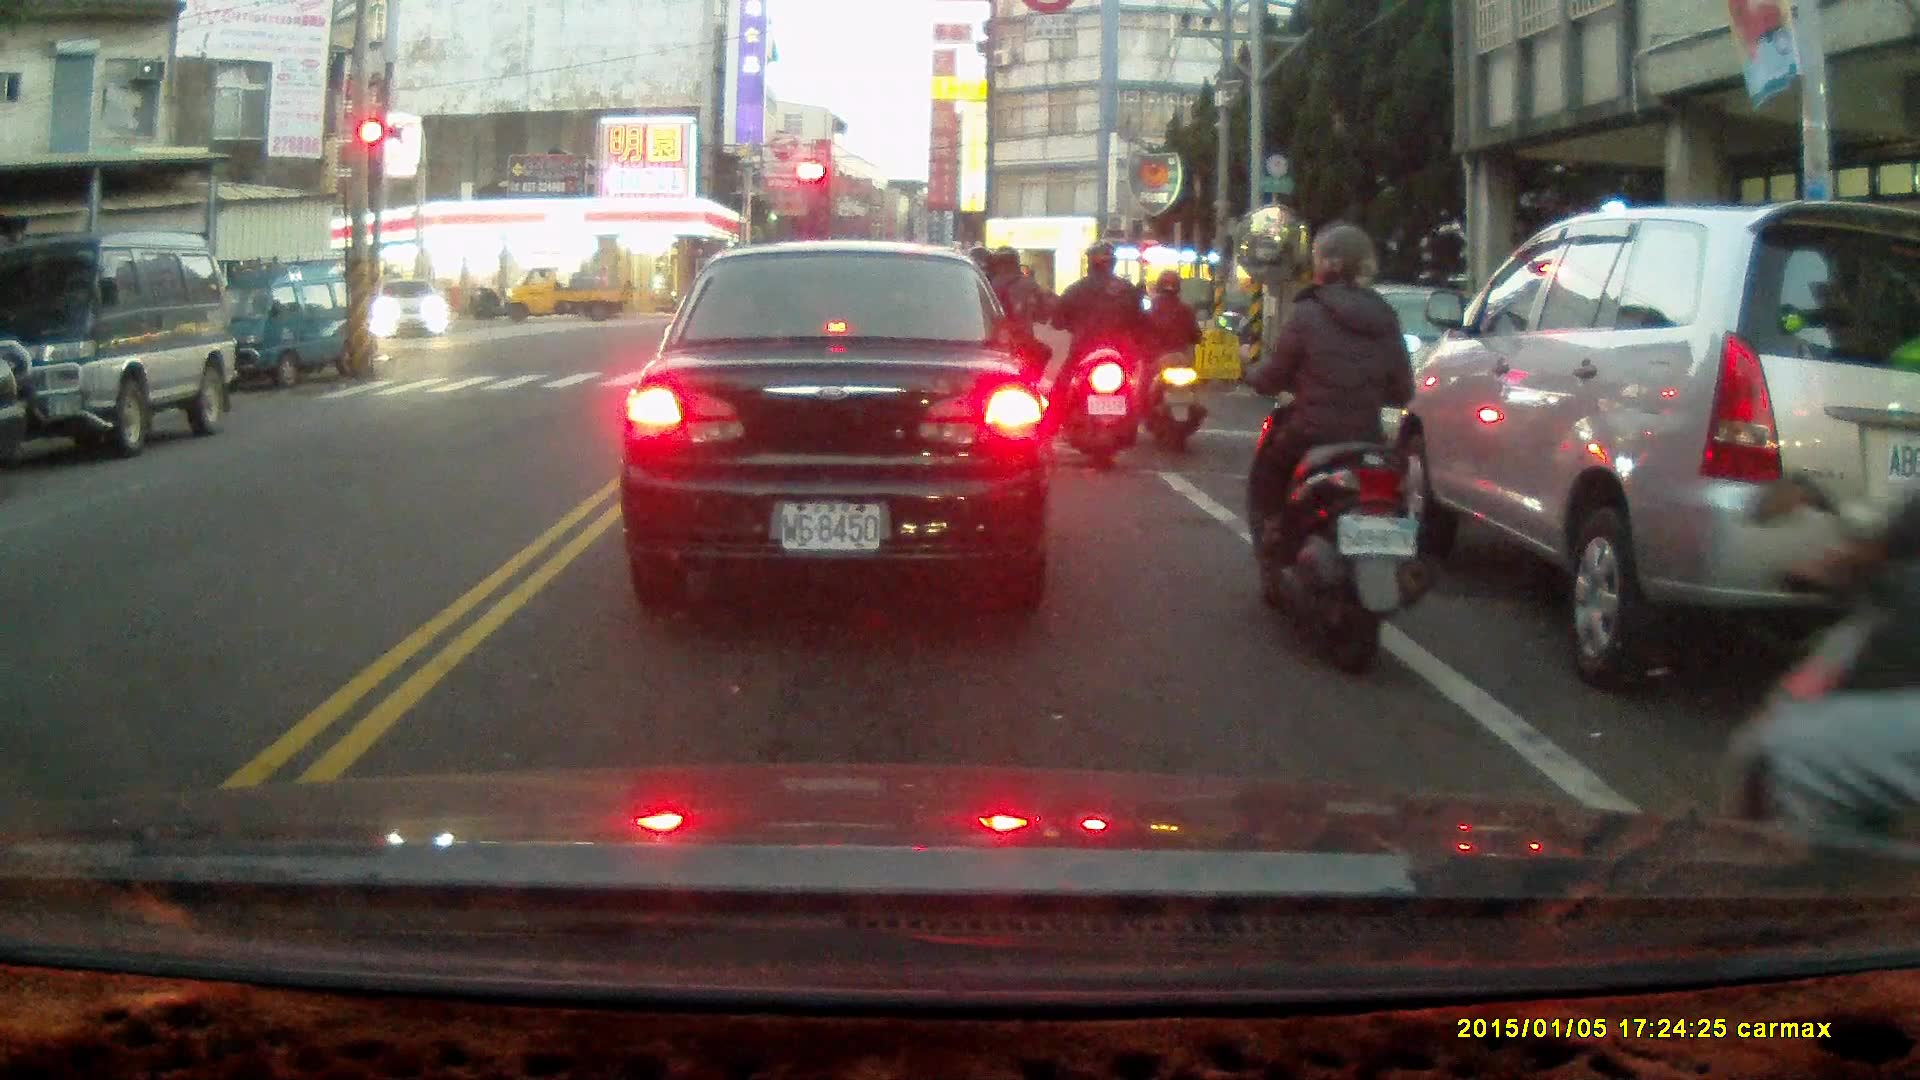rider: (1216, 217, 1438, 679), (1715, 453, 1920, 907), (1048, 243, 1141, 469), (962, 243, 1051, 445), (1134, 269, 1204, 450)
vehicle: (1380, 195, 1920, 685), (617, 243, 1061, 606), (1, 234, 239, 458), (194, 255, 381, 394), (497, 264, 634, 326), (372, 277, 451, 343)
